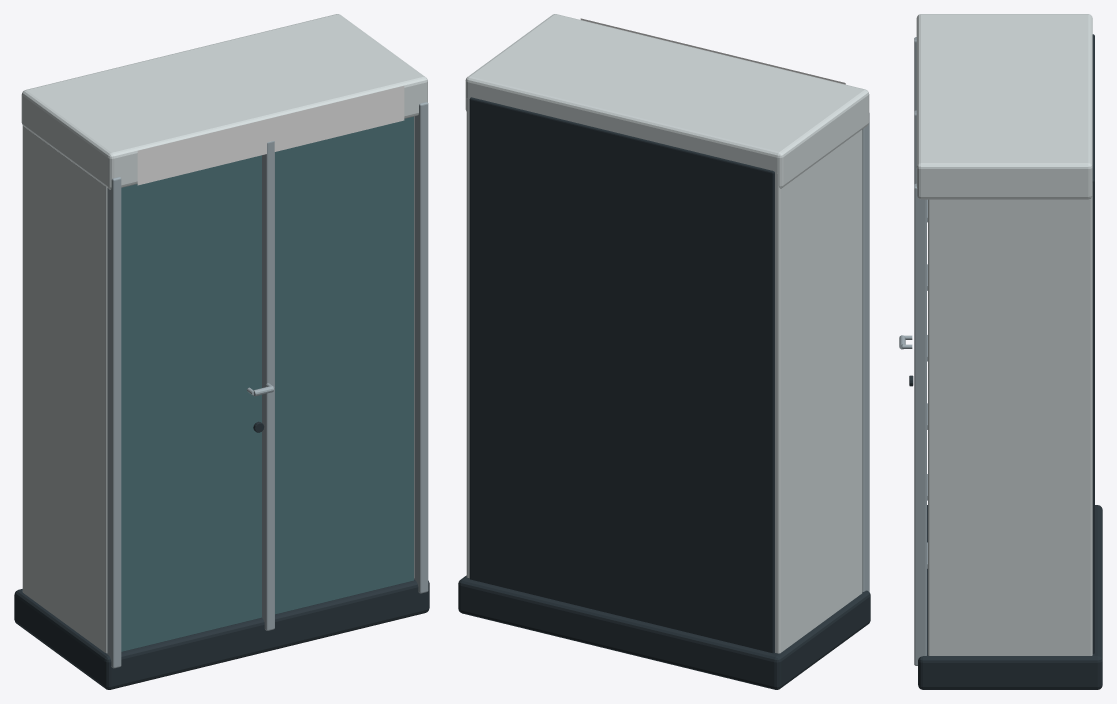
Rendered from SF_SR_EvidenceCabinet.fbx.
The picture shows the model from 3 angles, left to right: view 1: azimuth 30°, elevation 25°; view 2: azimuth 150°, elevation 25°; view 3: azimuth 270°, elevation 25°; orthographic projection. The views are drawn at different scales.
Parts seen in each view (by area): view 1: SF_SR_EvidenceCabinet; view 2: SF_SR_EvidenceCabinet; view 3: SF_SR_EvidenceCabinet.
Boxes of the visible parts, bbox=[...] form: SF_SR_EvidenceCabinet: bbox=[14, 14, 429, 689]; SF_SR_EvidenceCabinet: bbox=[458, 14, 870, 689]; SF_SR_EvidenceCabinet: bbox=[899, 14, 1102, 689].
Bounding box in the file's own units: 129 × 204 × 71.6.
